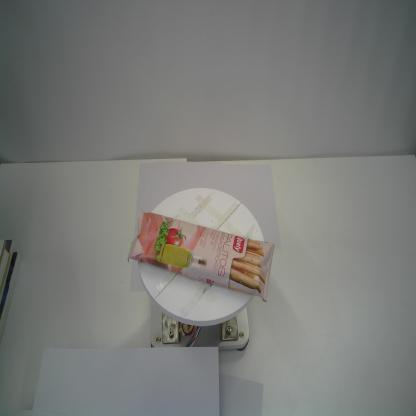Dessert: (127, 208, 277, 305)
